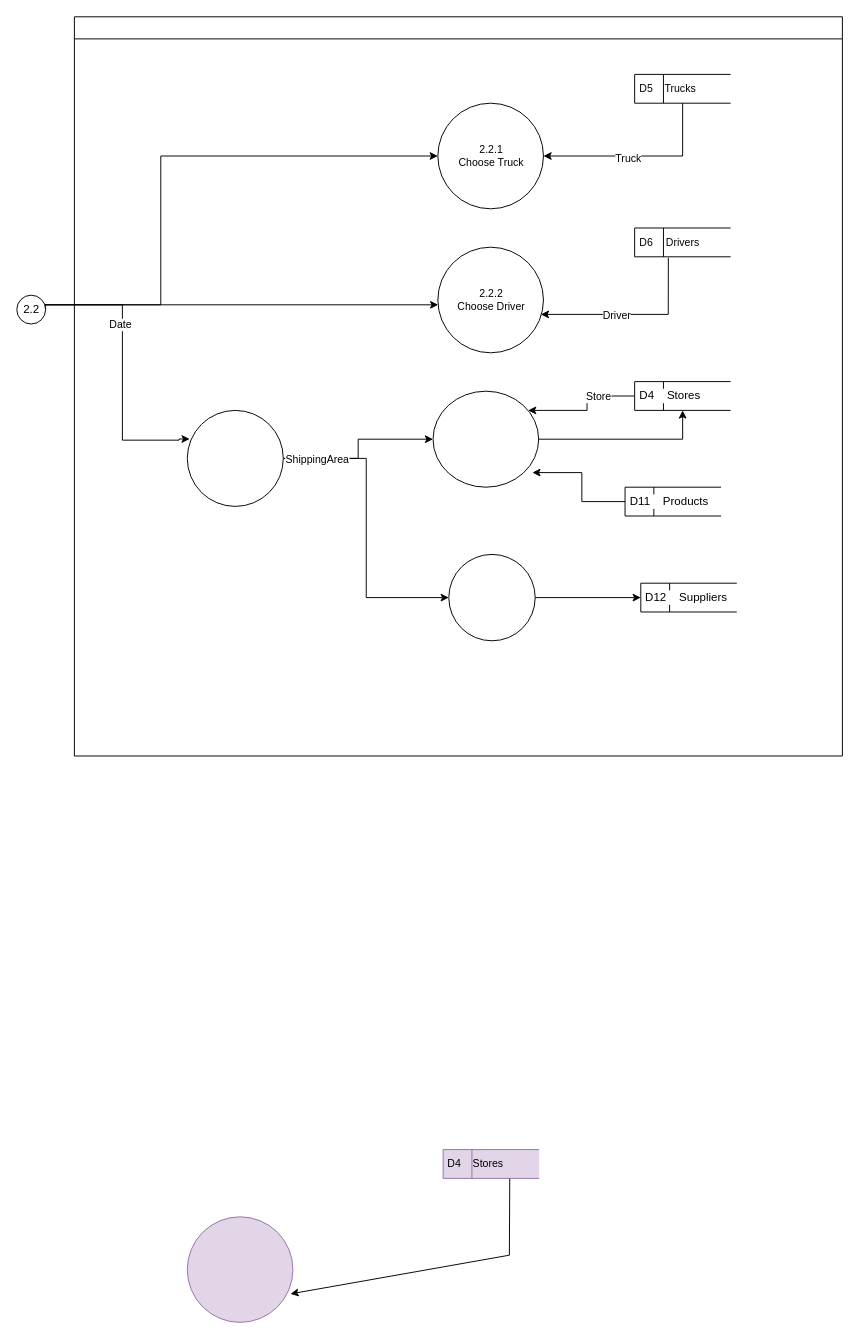
The diagram is 859 pixels wide and 1339 high, and some of its shapes have lost their labels. The box of each missing label's shape, as (x1, y1, x2, y2) in pixels:
2.2.2 Choose Destination: (186, 1216, 293, 1322)
2.2.3 CreateOrderList: (186, 409, 283, 506)
2.2.4 ChooseStoreroducts: (432, 390, 539, 487)
2.2.5 ChooseSupplier: (448, 553, 535, 641)
2.2: CreateTransportMaunal: (73, 16, 842, 756)
